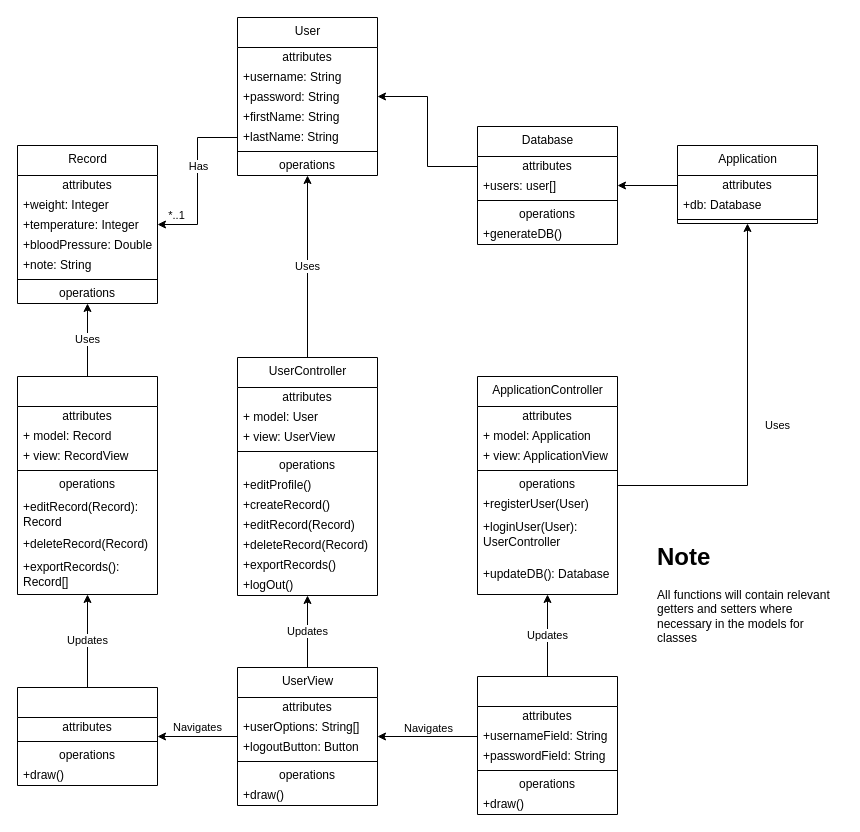
Image size: 860x832. Some labels were removed from this diagram. The shapes that lost their labels are listed below. From the top down, each one's box as (x1, y1, x2, y2) in pixels, then its label:
(16, 376, 158, 594): RecordController
(16, 686, 158, 786): RecordView
(476, 676, 618, 814): ApplicationView
